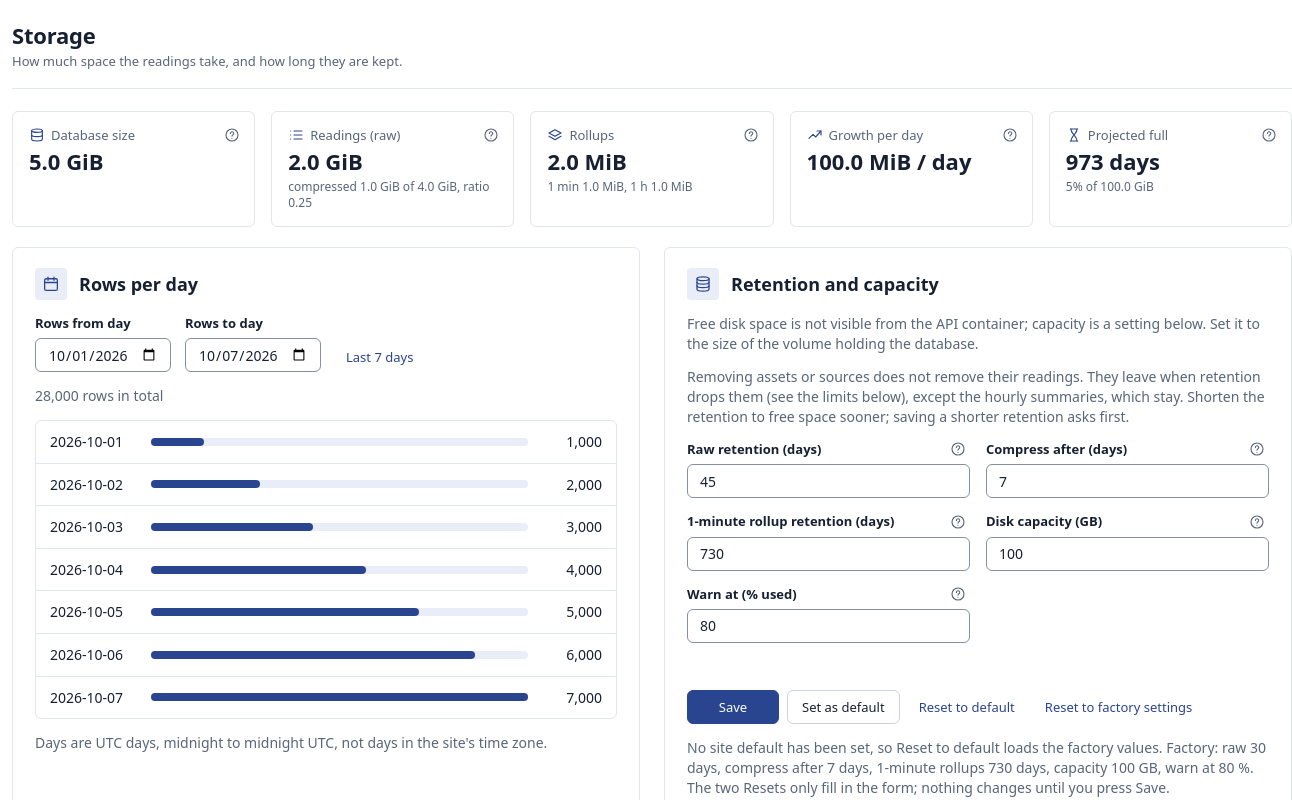
StoragePage defaults, resets and the confirmation › Reset to default falls back to the factory values when no site default is set, and says so
The image size is (1292, 800).
Expected: the text "No site default has been set" is shown, [687,738,1163,757]
Click the button "Reset to default": click(967, 707) [908,692,1026,722]
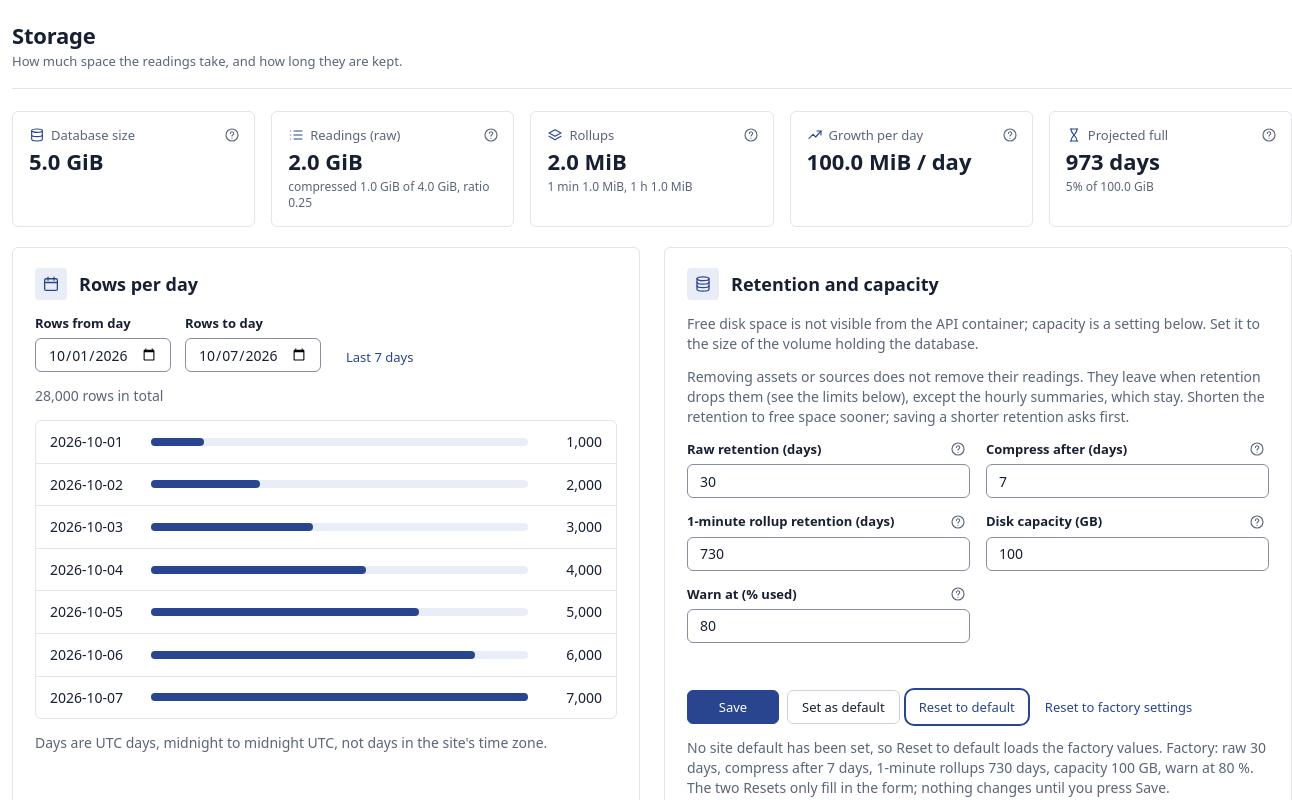
Expected: the number field labelled "Raw retention (days)" holds "30", [687,464,970,498]
